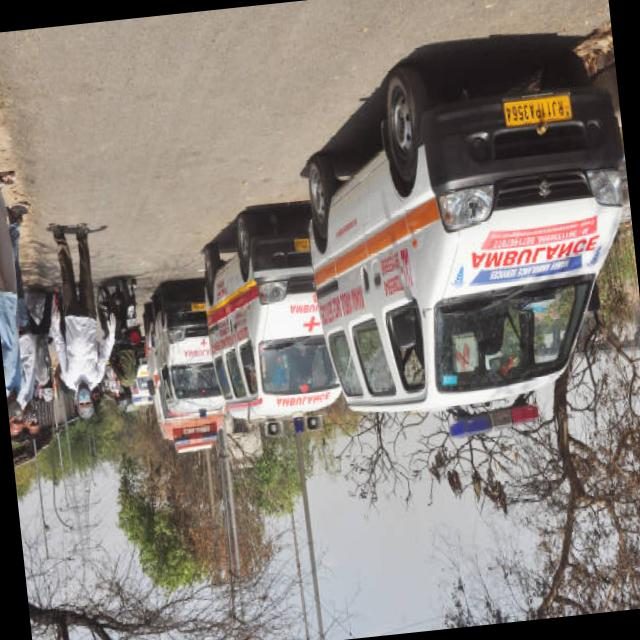ambulance: (451, 221, 601, 278), (309, 230, 417, 303), (441, 388, 544, 447), (206, 282, 262, 352), (288, 282, 326, 346), (176, 318, 213, 375)
